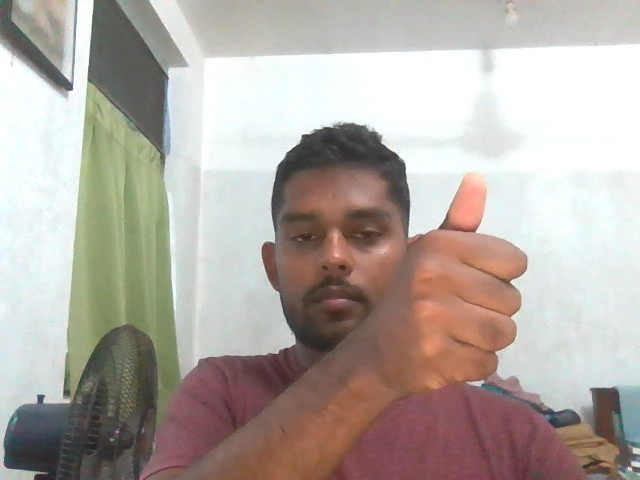good.: (358, 164, 538, 396)
